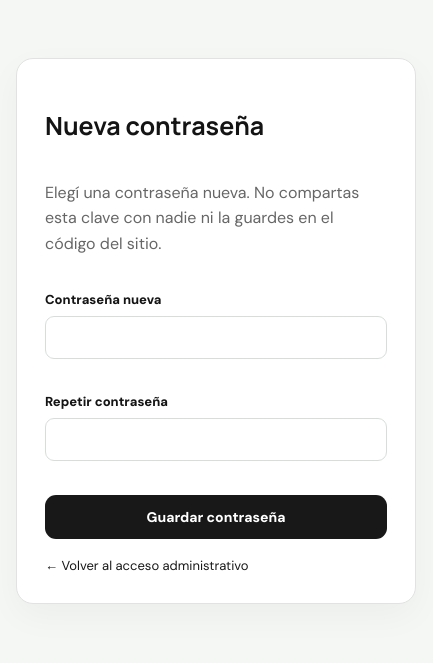
recuperación de contraseña administrativa › exige contraseñas iguales y de 12 caracteres
The width and height of the screenshot is (433, 663).
Expected: the button "Guardar contraseña" is shown, [45, 495, 387, 539]
In the password field labelled "Contraseña nueva": (216, 337) [45, 316, 387, 359], type "UnaClaveMuchoMasLarga!"
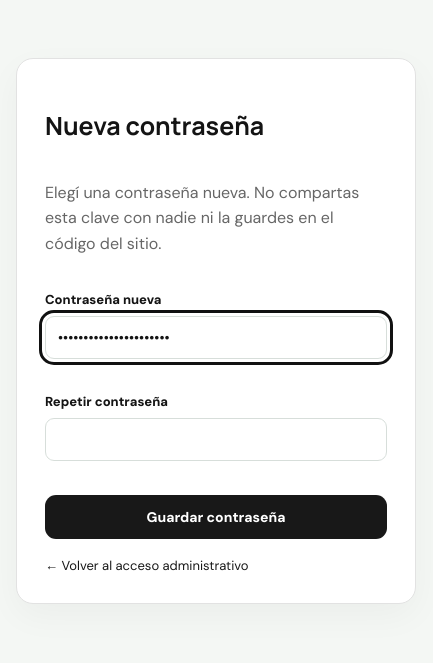
In the password field labelled "Repetir contraseña": (216, 439) [45, 418, 387, 461], type "OtraClaveMuchoMasLarga!"
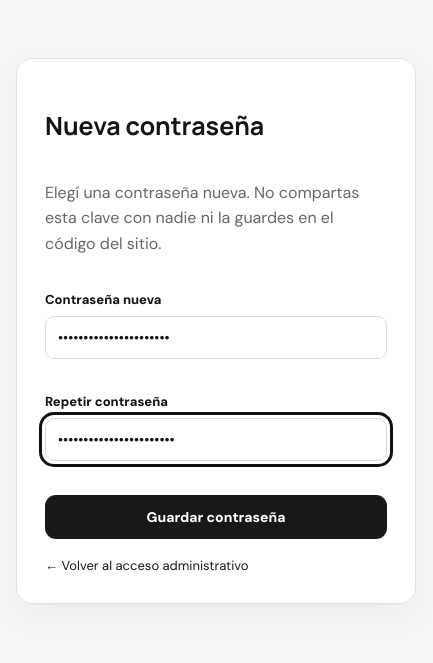
Click the button "Guardar contraseña": (216, 517) [45, 495, 387, 539]
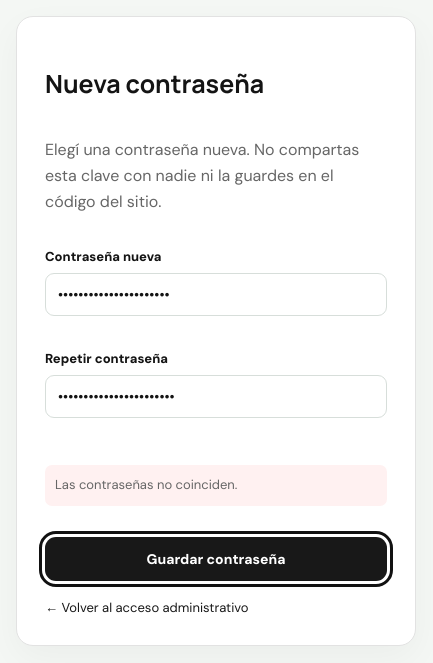
Expected: the message reads "Las contraseñas no coinciden.", [55, 476, 237, 493]
